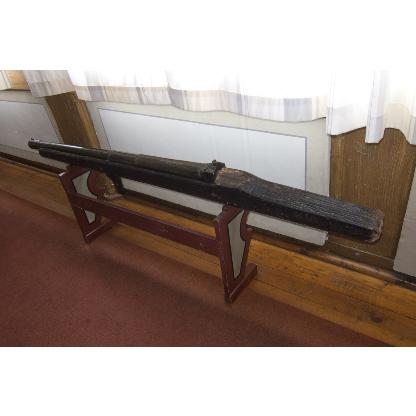gun: (28, 134, 382, 242)
